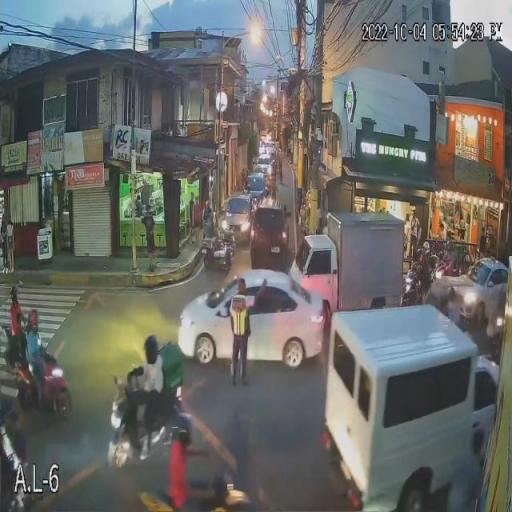helmet: (167, 407, 200, 444), (140, 336, 161, 365), (27, 309, 43, 333)
motorcycle: (104, 340, 191, 468), (134, 474, 252, 512), (12, 358, 80, 421)
rider: (166, 439, 230, 511), (128, 356, 166, 462), (24, 332, 52, 413)
